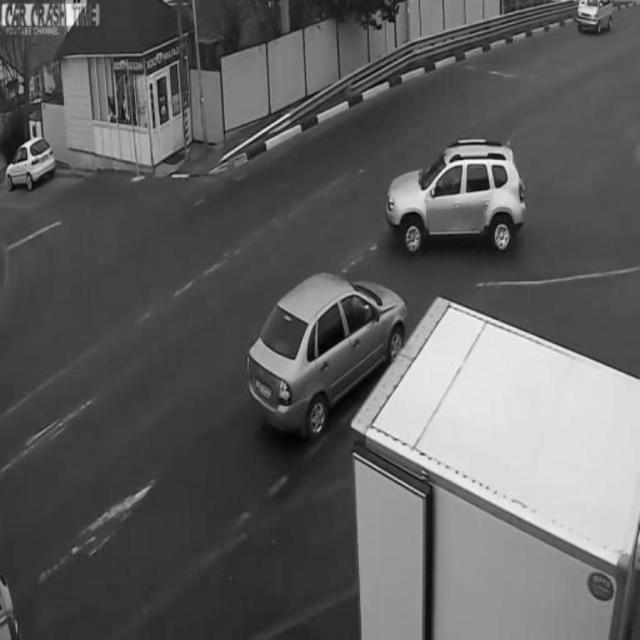vehicle: (251, 267, 405, 442), (386, 137, 527, 250), (0, 136, 61, 197), (572, 0, 617, 34)
